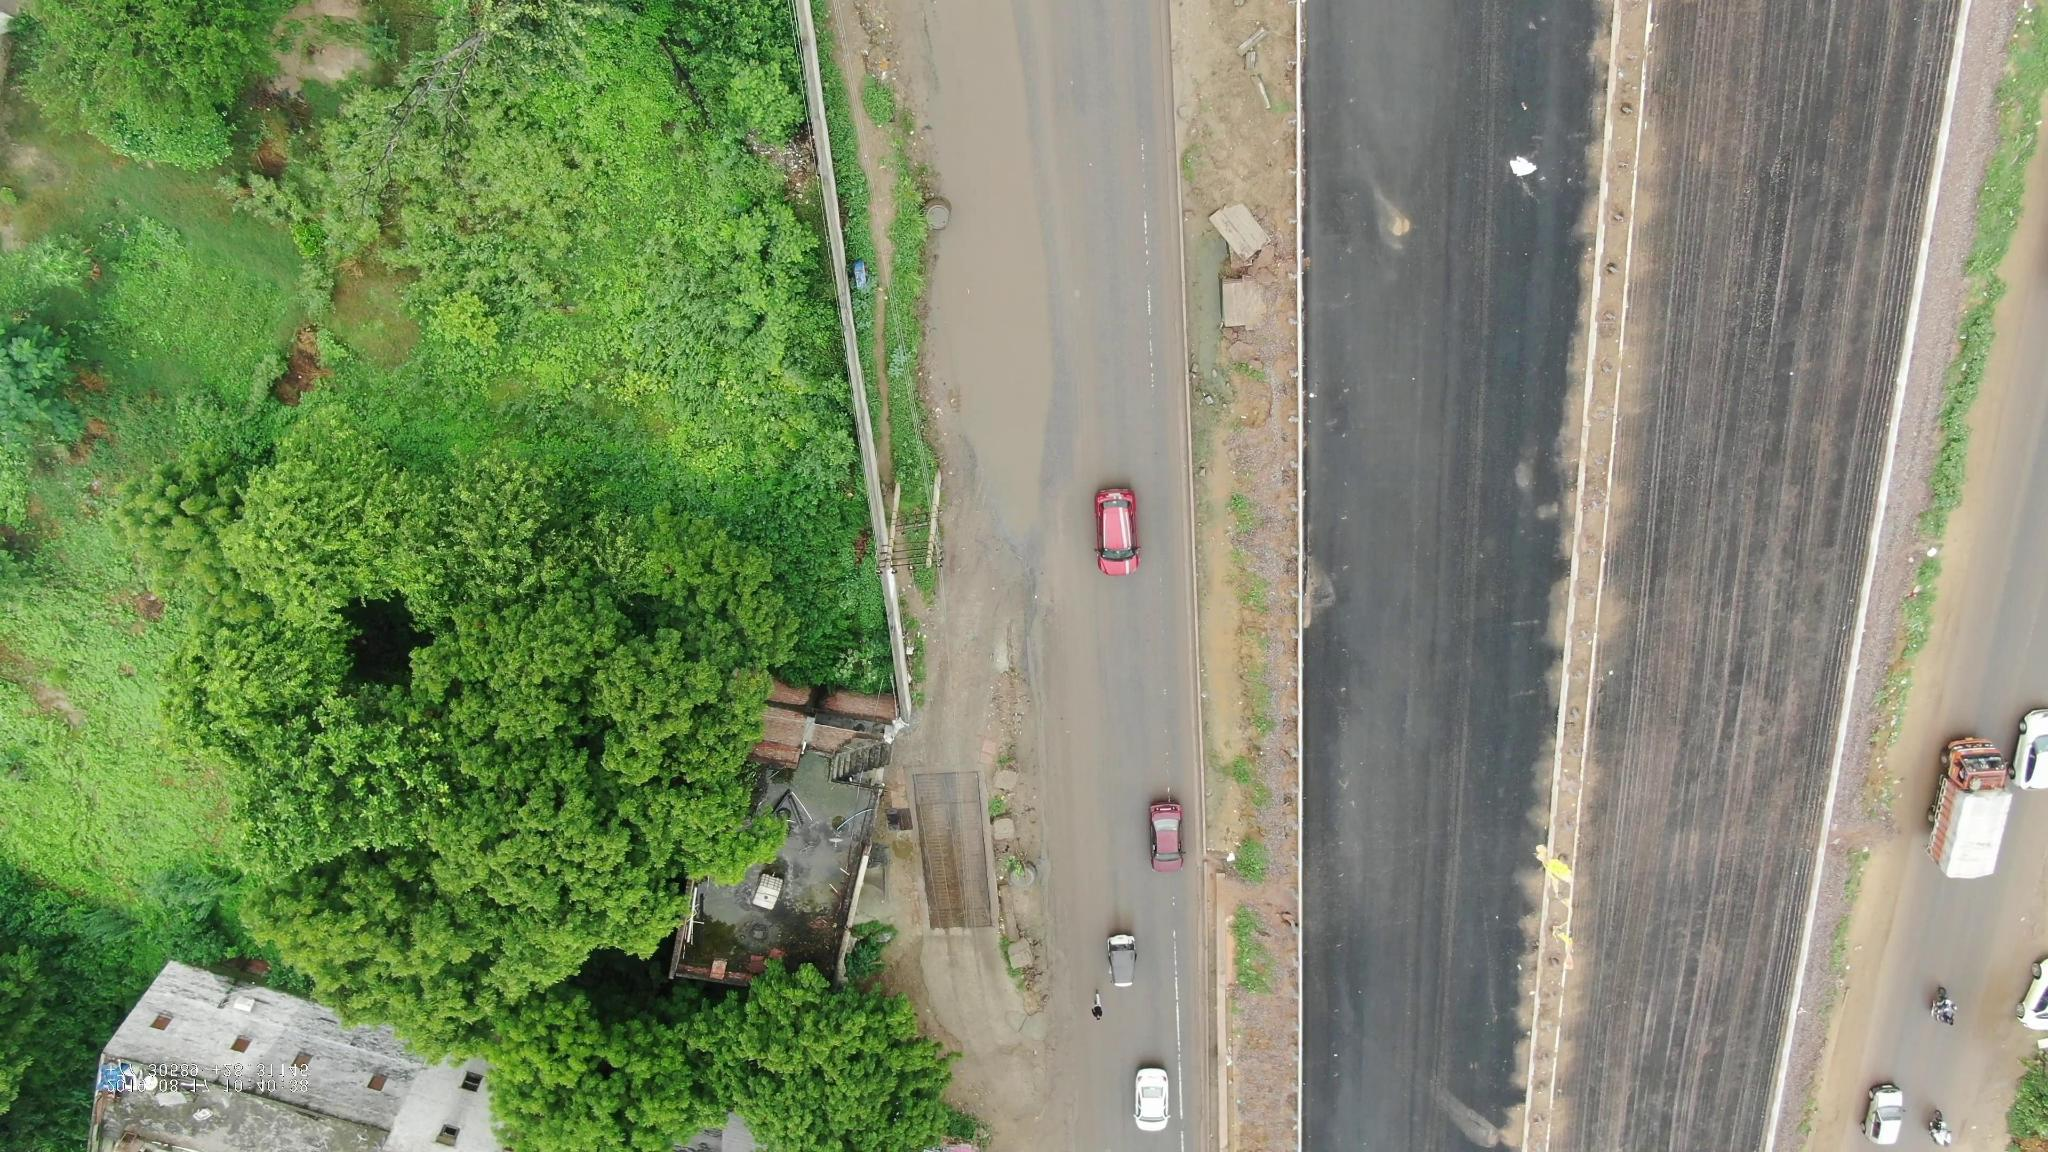Waterlogging: (904, 15, 1063, 564)
